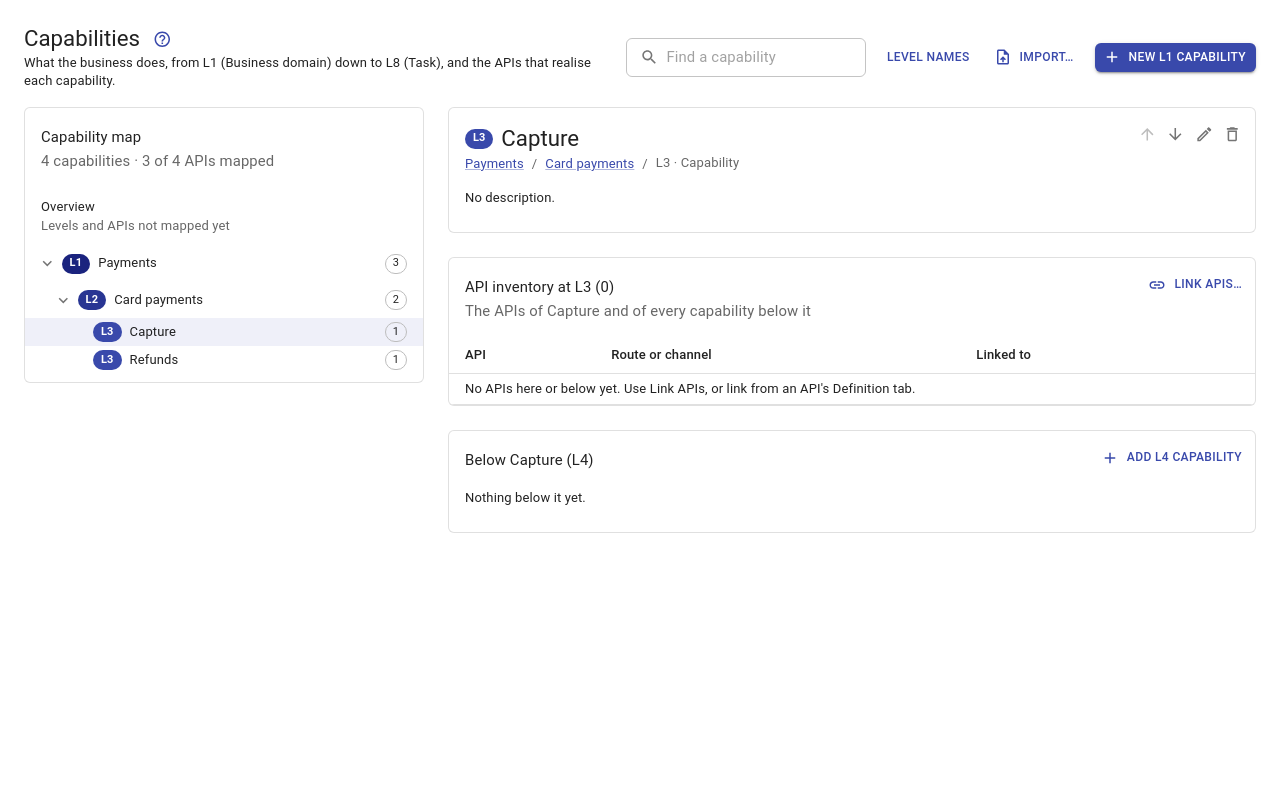
Capabilities › links APIs to the selected capability
Later steps or results of the test are not shown.
Click the button "Link APIs…".
click(1196, 285)  # box top-left (1146, 270), bottom-right (1247, 299)
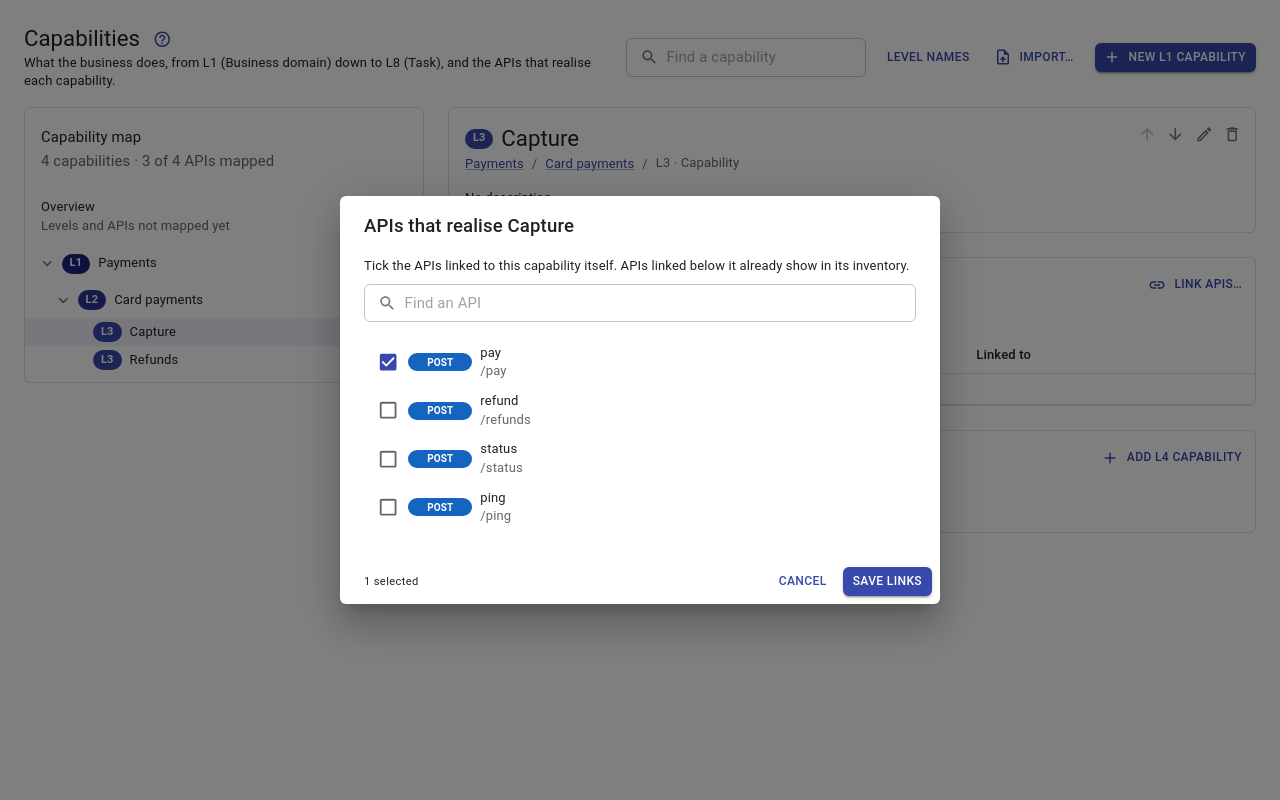
Result: the checkbox named "pay" is checked at top-left (377, 351), bottom-right (399, 374)
